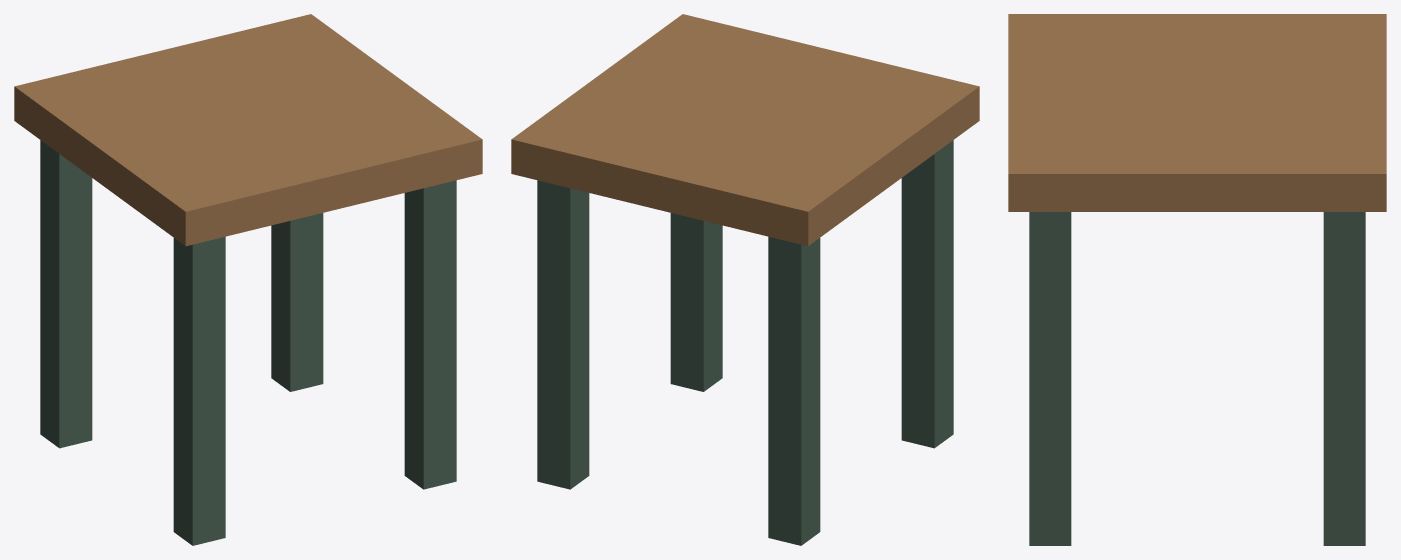
3 views of the same model, side by side, from view 1: azimuth 30°, elevation 25°; view 2: azimuth 150°, elevation 25°; view 3: azimuth 270°, elevation 25° (orthographic). The views are drawn at different scales.
Parts seen in each view (by area): view 1: top, leg-0-1, leg-1-1, leg-0-0, leg-1-0; view 2: top, leg-0-0, leg-1-0, leg-0-1, leg-1-1; view 3: top, leg-1-0, leg-1-1.
Boxes of the visible parts, box(x1,y1,x2,y2) form: top: box(14, 14, 482, 246); leg-0-1: box(173, 236, 225, 545); leg-1-1: box(404, 180, 456, 489); leg-0-0: box(40, 140, 92, 448); leg-1-0: box(271, 213, 323, 391); top: box(511, 14, 979, 246); leg-0-0: box(768, 236, 820, 545); leg-1-0: box(537, 180, 589, 489); leg-0-1: box(901, 140, 953, 448); leg-1-1: box(670, 213, 722, 391); top: box(1008, 14, 1386, 211); leg-1-0: box(1323, 212, 1365, 545); leg-1-1: box(1029, 212, 1071, 545).
Size of the model in its own units: 0.45 by 0.5 by 0.45.
